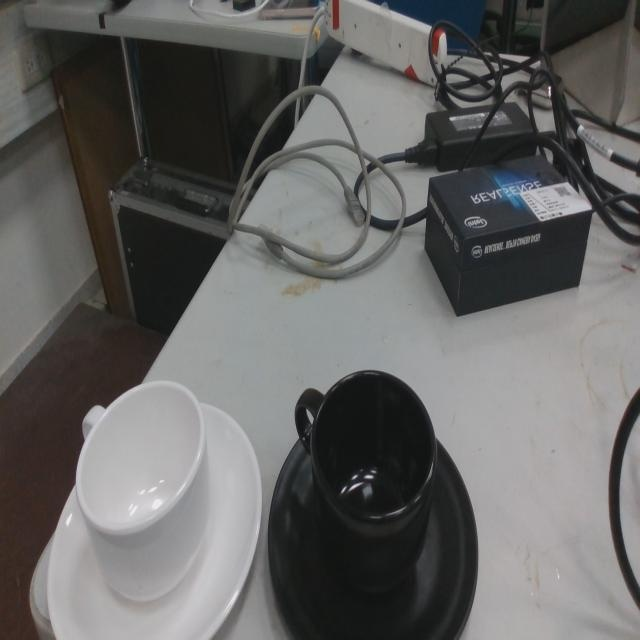black: (265, 364, 481, 640)
white: (44, 375, 264, 640)
